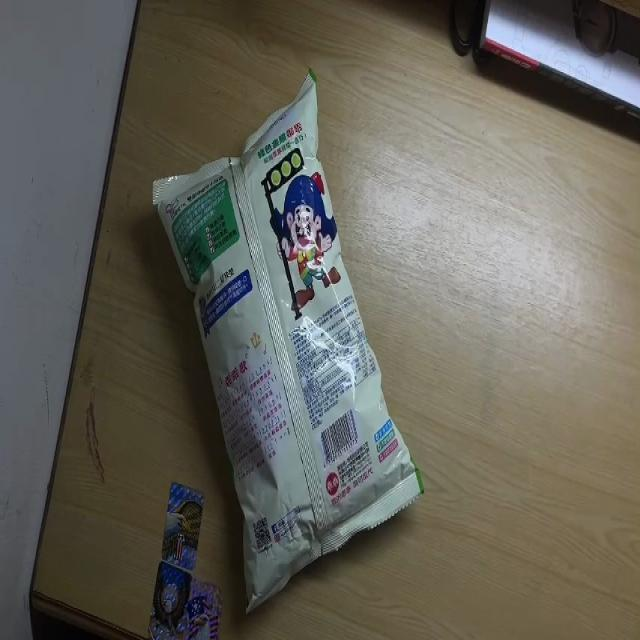Good-Luck: (149, 70, 424, 620)
